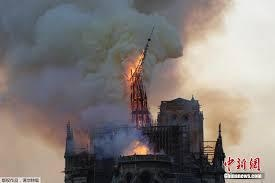fire: (124, 141, 150, 157)
